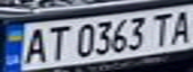0: (72, 20, 96, 58)
3: (127, 14, 151, 52), (93, 18, 115, 56)
6: (109, 17, 133, 54)
A: (18, 25, 51, 65), (166, 7, 193, 45)
T: (42, 24, 72, 62), (148, 10, 175, 47)
